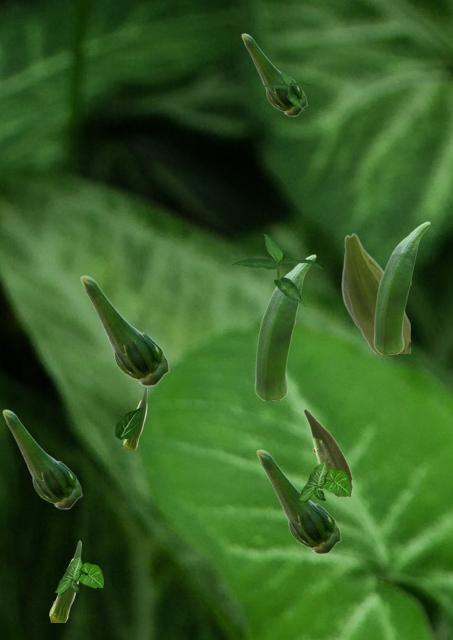okra: (80, 275, 168, 385), (254, 254, 315, 399), (256, 449, 340, 553), (341, 233, 409, 352), (2, 409, 81, 508), (373, 221, 429, 353), (241, 33, 306, 115), (303, 408, 351, 495), (49, 540, 80, 621), (123, 386, 146, 448)
